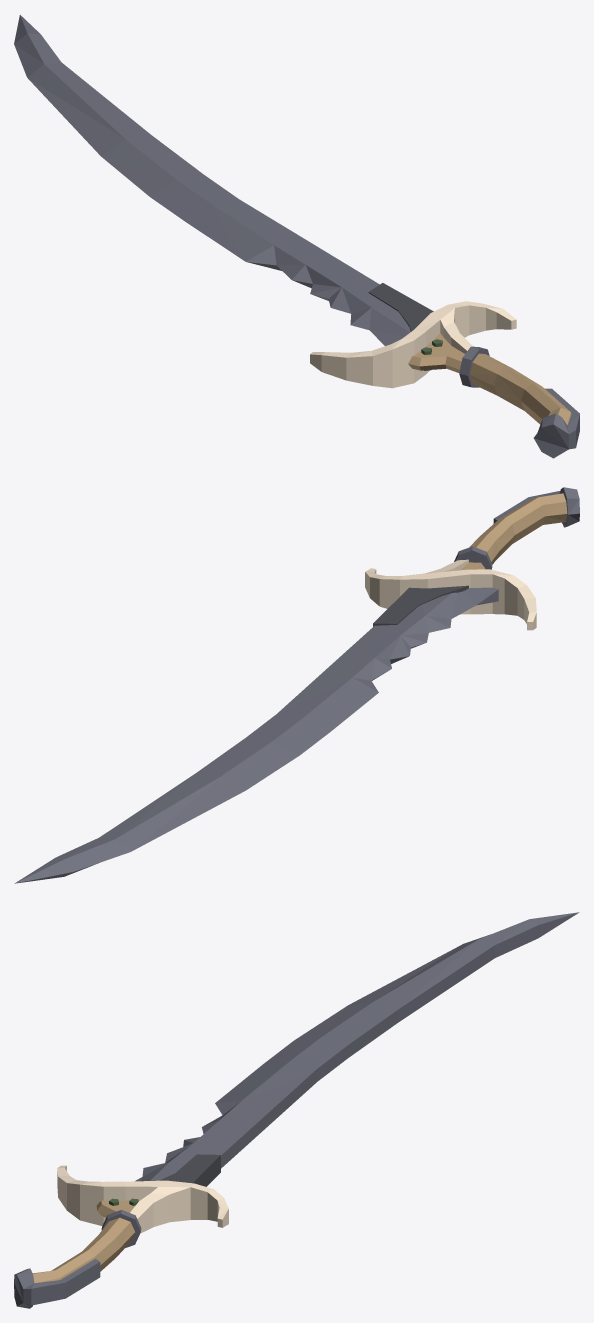
File: sword_18.glb
3 views of the same model, one above another, from view 1: azimuth 30°, elevation 25°; view 2: azimuth 150°, elevation 25°; view 3: azimuth 330°, elevation 25° (orthographic). The views are drawn at different scales.
Visible parts, largest first — view 1: sword_18; view 2: sword_18; view 3: sword_18.
Boxes of the visible parts, x1=… form: sword_18: x1=14, y1=15, x2=579, y2=458; sword_18: x1=14, y1=487, x2=579, y2=883; sword_18: x1=14, y1=912, x2=579, y2=1308.
Size of the model in its own units: 0.2616 by 0.0572 by 1.37.
Materials: 1 (1 with a texture image).
